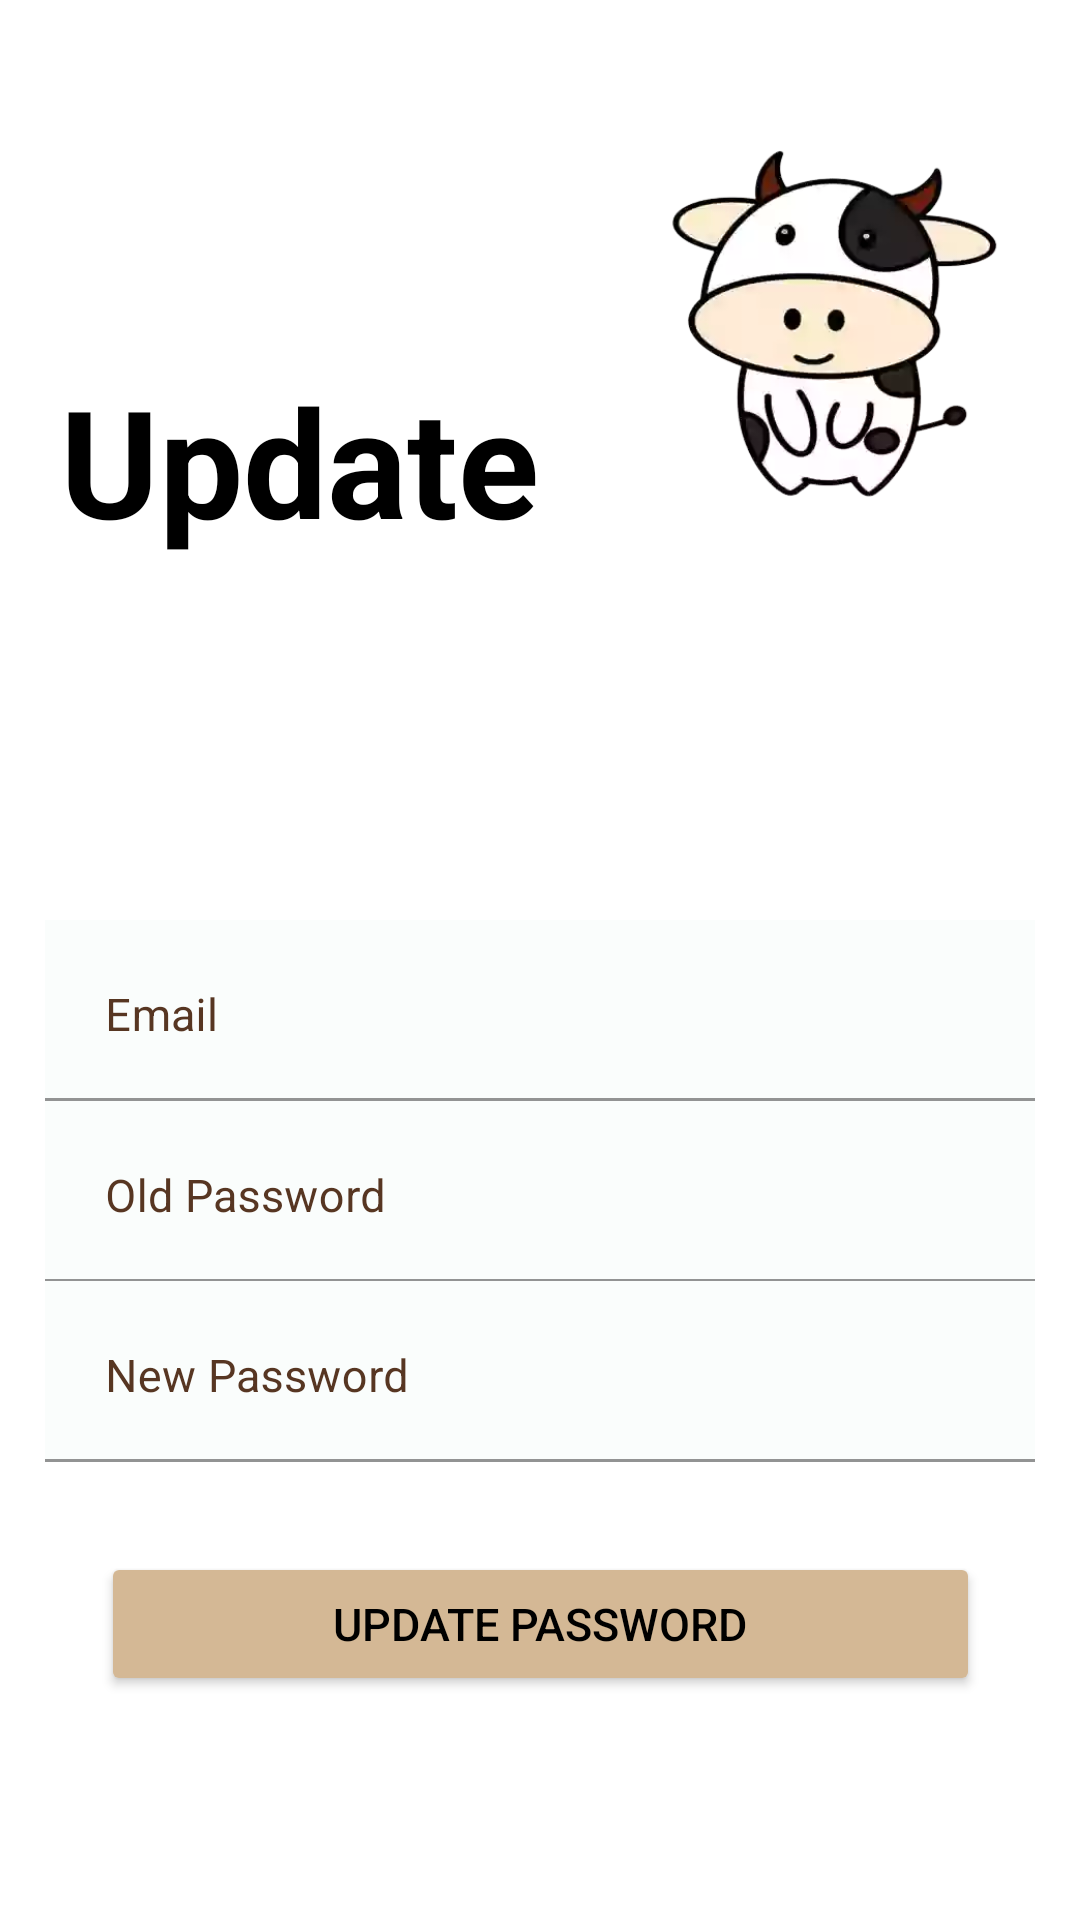

Icon click points for this 1080 x 1920 phone screenshot, format (x=x, y=y):
signup login cow: (x=834, y=324)
